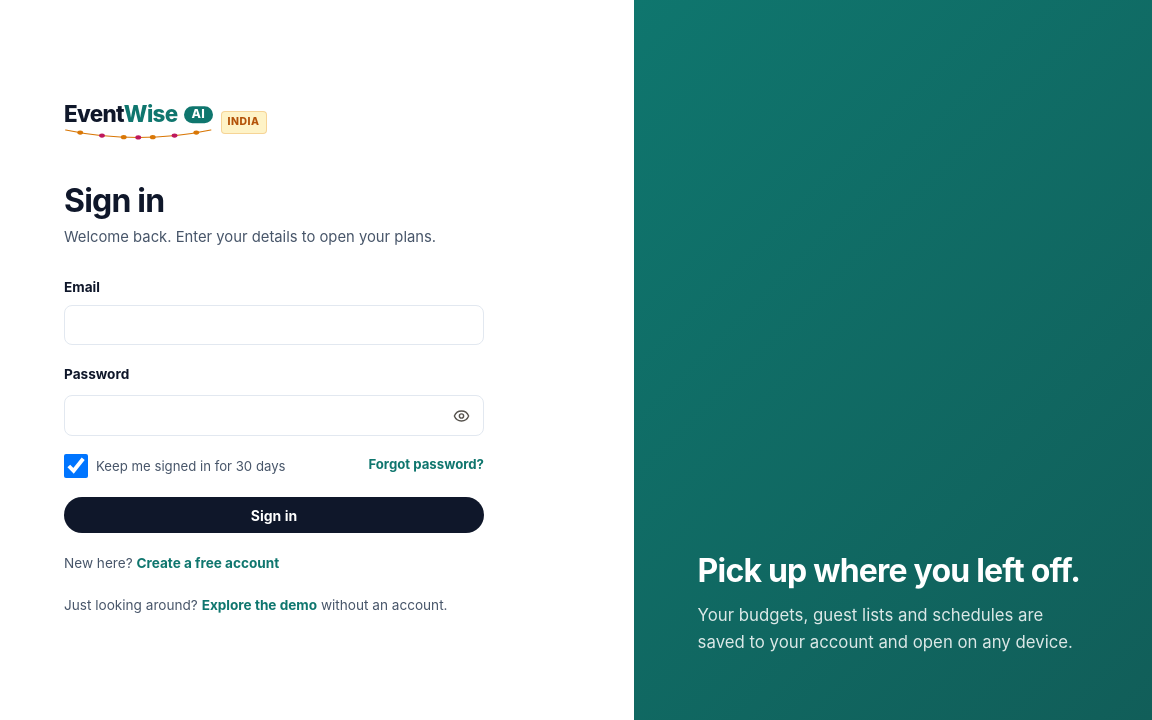
it: Clean Slate for Logged-In Users & Event Website Builder › renders a fresh clean slate onboarding hub for a newly logged-in user without demo data leakage
In the field labelled "Email": (274, 325) 64,305 -> 484,346, type "aarohi@example.com"
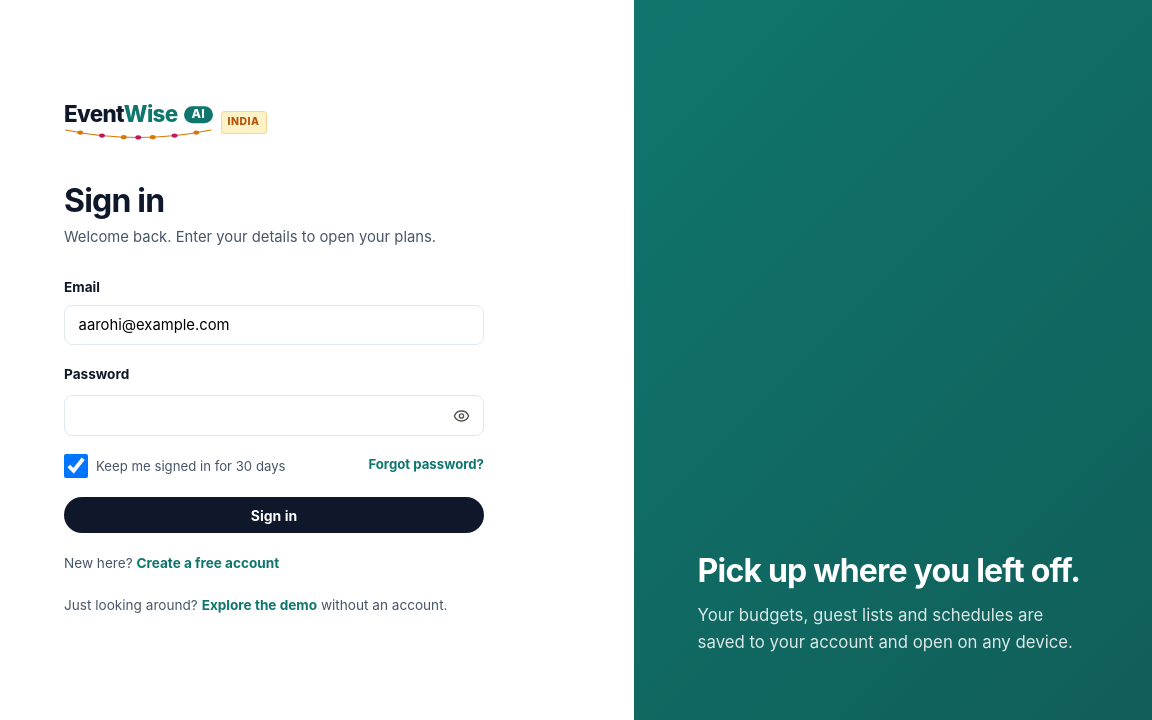
In the password field labelled "Password": (274, 416) 64,395 -> 484,436, type "ValidPassword123!"
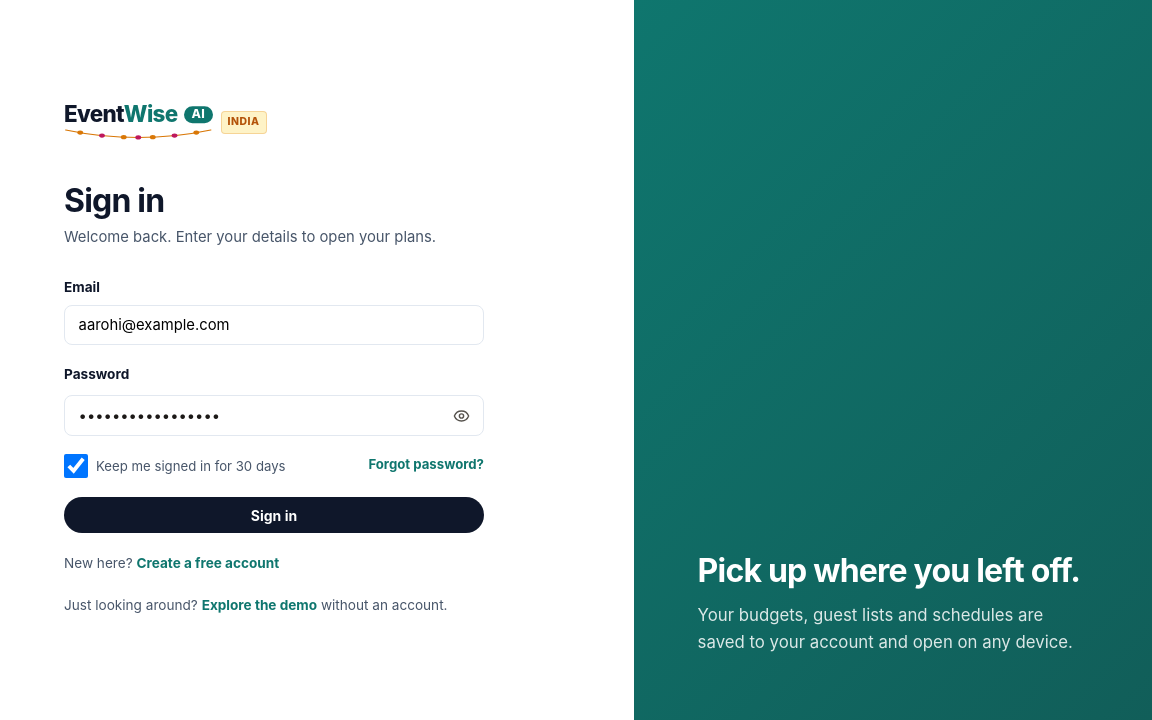
Click the button "Sign in": (274, 515) 64,497 -> 484,533
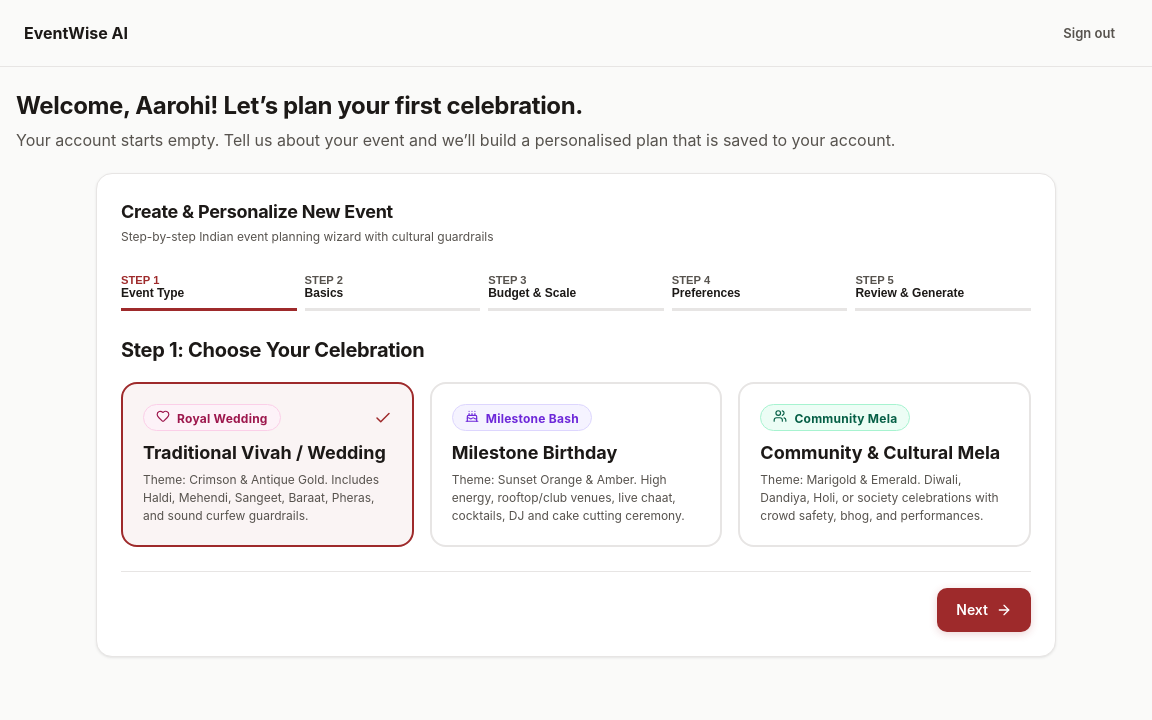
Result: the heading "Welcome, Aarohi! Let’s plan your first celebration." is shown at 16,91 -> 583,120
Result: the text "Your account starts empty. Tell us about your event and we’ll build a personalised plan" is shown at 16,130 -> 896,150
Result: the button "Sign out" is shown at 1050,16 -> 1128,50
